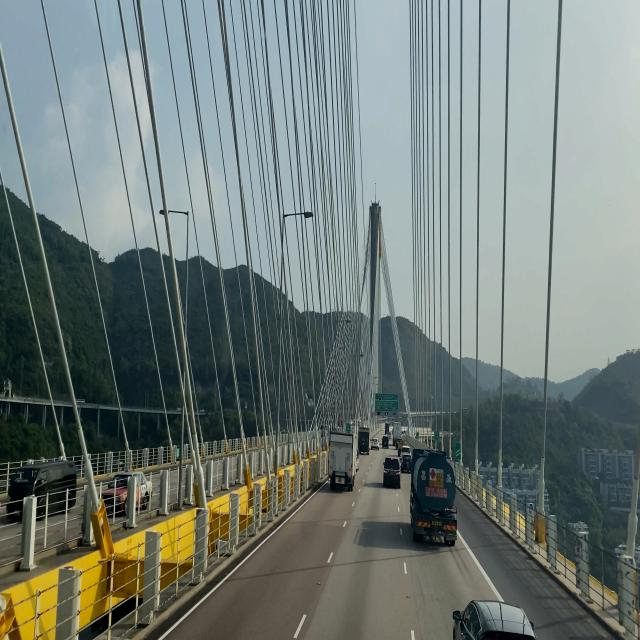Vehicle: (406, 447, 457, 554), (324, 426, 361, 500), (378, 456, 403, 492)
